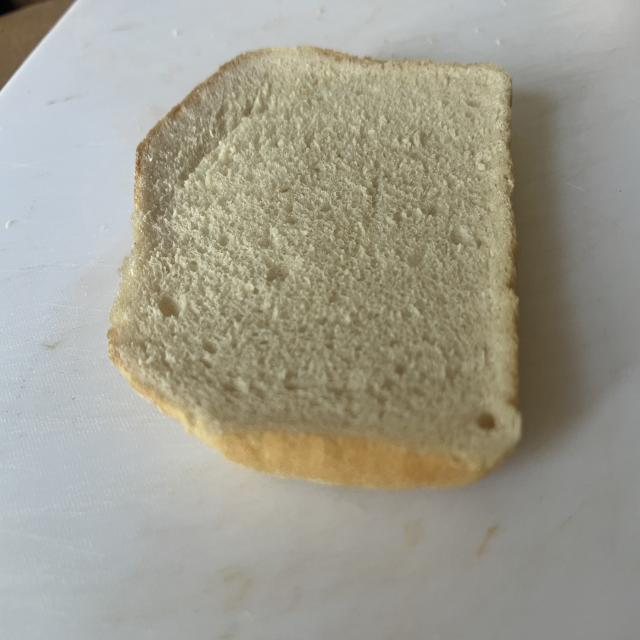sliced_bread: (107, 47, 521, 488)
